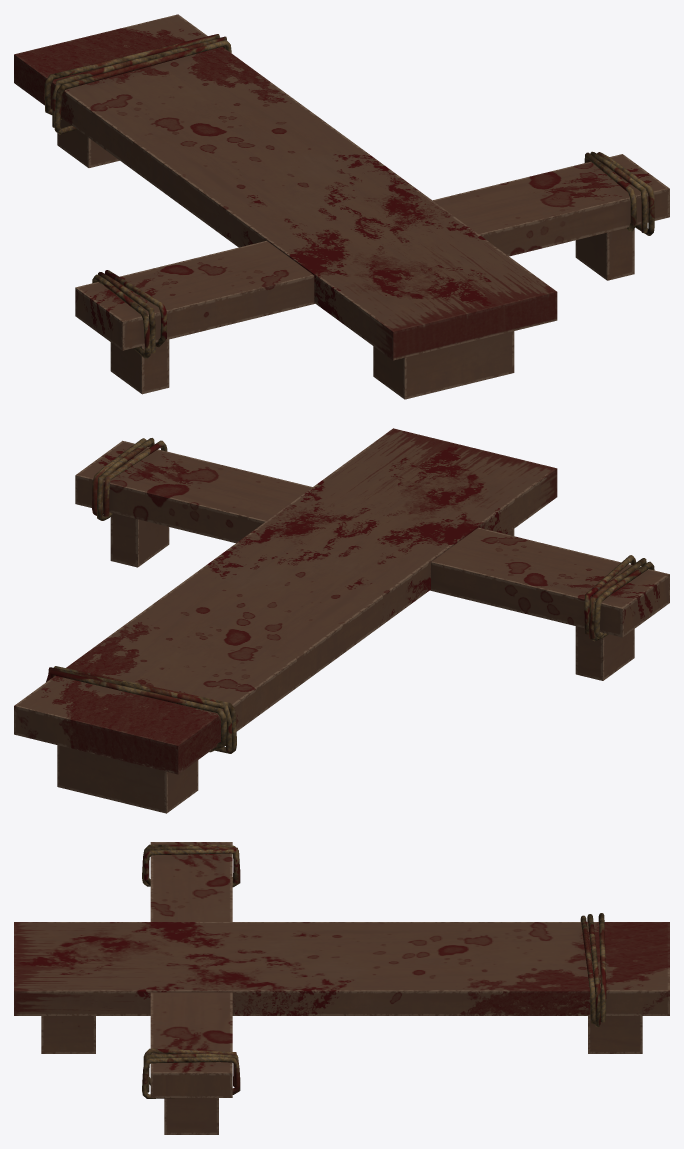
Rendered from gonjang.fbx.
3 renders of one model, top to bottom at view 1: azimuth 30°, elevation 25°; view 2: azimuth 150°, elevation 25°; view 3: azimuth 270°, elevation 25°, orthographic. The views are drawn at different scales.
Parts seen in each view (by area): view 1: gonjang; view 2: gonjang; view 3: gonjang.
Boxes of the visible parts, left/top/right/bottom form: gonjang: left=14, top=14, right=669, bottom=399; gonjang: left=14, top=428, right=669, bottom=813; gonjang: left=14, top=842, right=669, bottom=1134.
Bounding box in the file's own units: 200 × 33.21 × 240.
